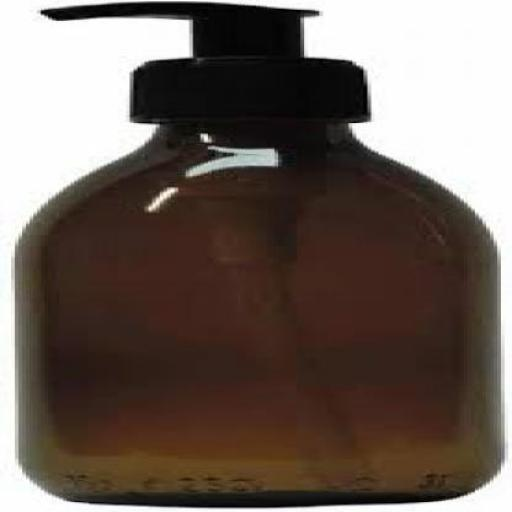glass: (11, 118, 494, 506)
plastic: (37, 0, 368, 121)
